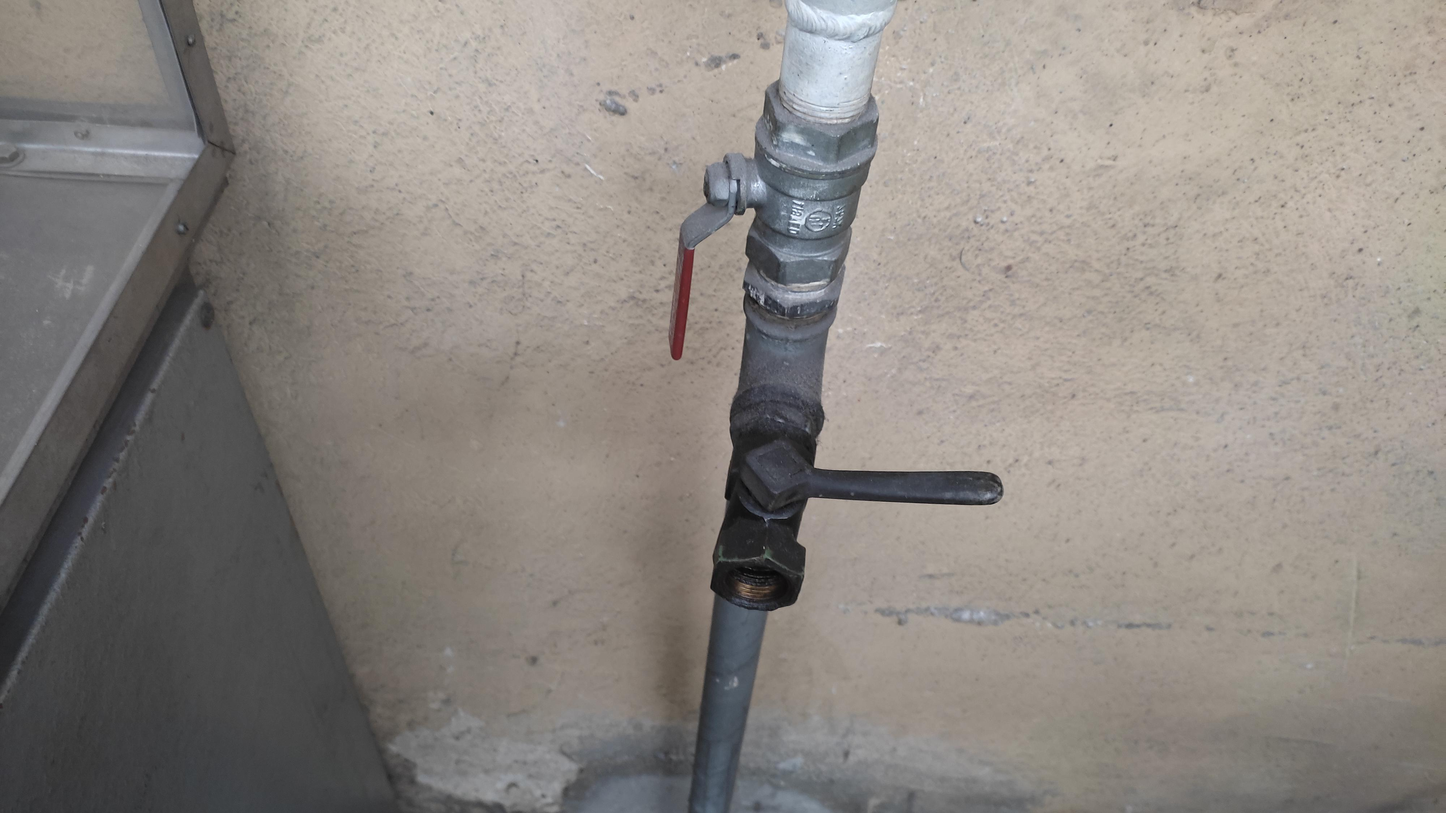closed valve: (715, 386, 1014, 577)
opened valve: (666, 73, 886, 364)
